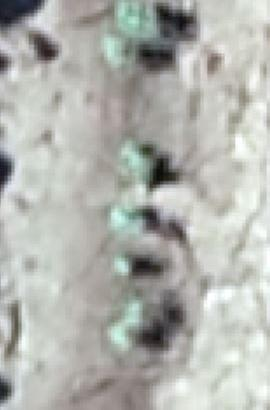cotton: (119, 4, 156, 38), (125, 147, 151, 177), (107, 36, 129, 65), (113, 204, 143, 224), (128, 300, 146, 332), (108, 326, 134, 348), (114, 254, 130, 274)
